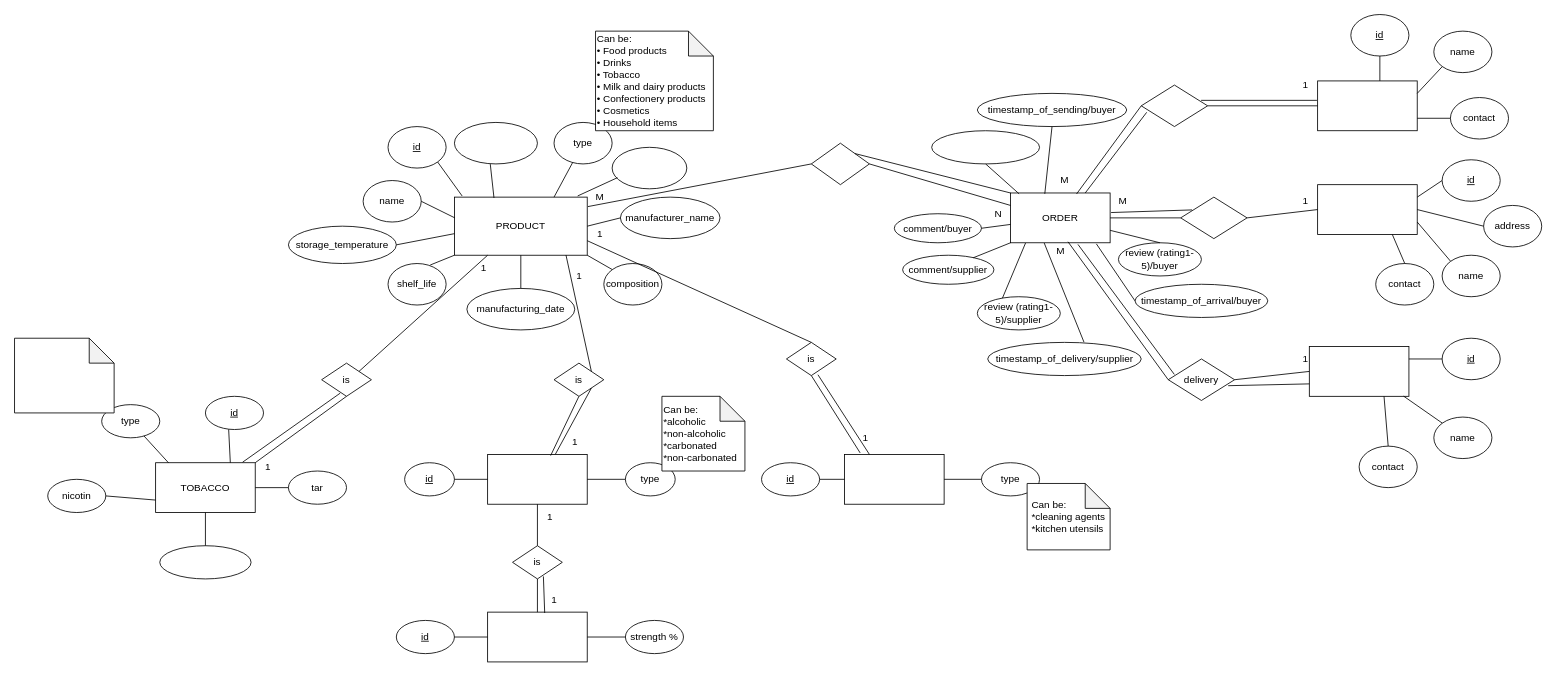
This 1556x676 diagram has some shape labels left out. The centre of each missing label's shape, as x and y in pixels:
"ADMINISTRATOR" belongs at (x=1367, y=105).
"ALCOHOL" belongs at (x=537, y=636).
"approve" belongs at (x=1174, y=105).
"BUYER" belongs at (x=1367, y=209).
"Can be: *cigarettes per piece *box *dry tobacco" belongs at (x=64, y=375).
"carbon_monoxide" belongs at (x=205, y=562).
"DRINK" belongs at (x=537, y=479).
"has" belongs at (x=839, y=163).
"HAUSEHOLD" belongs at (x=894, y=479).
"importer_name" belongs at (x=495, y=143).
"place_of_origin" belongs at (x=649, y=167).
"sent" belongs at (x=1213, y=217).
"SUPPLIER" belongs at (x=1358, y=371).
"timestamp_of_approval" belongs at (x=985, y=147).
